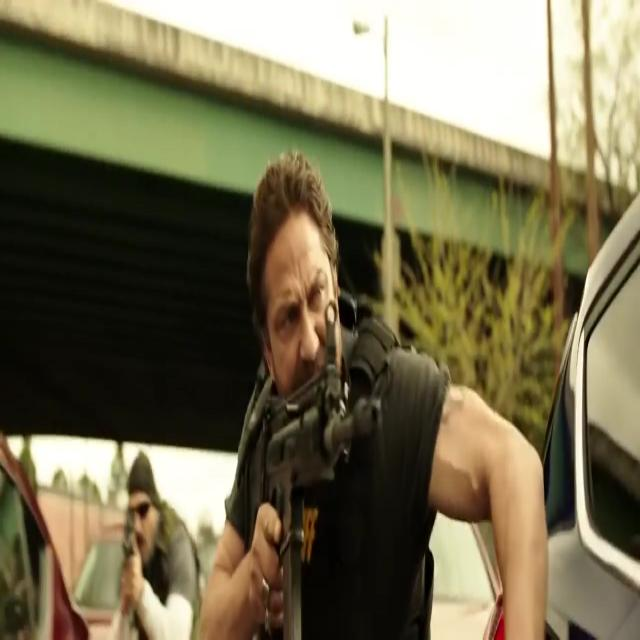Weapon: (237, 352, 384, 616), (106, 505, 151, 571)
